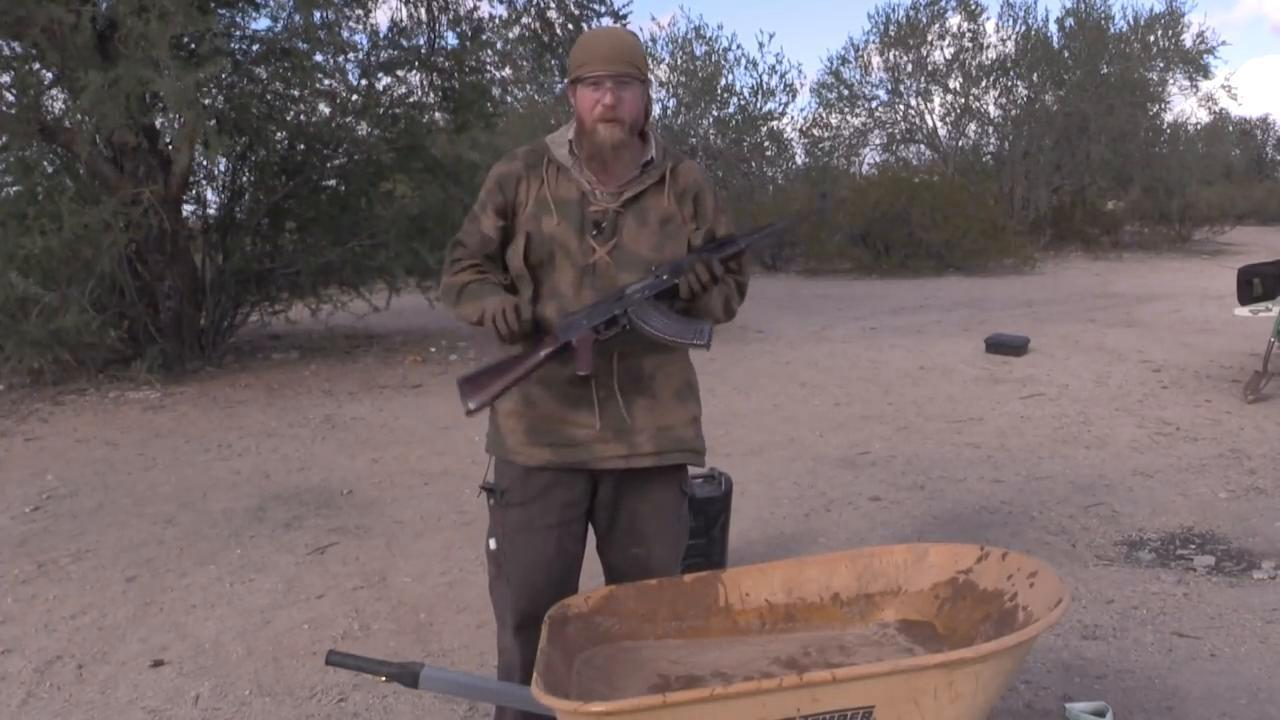AK47 Rifle: (452, 215, 787, 419)
M4 Rifle: (455, 217, 792, 415)
